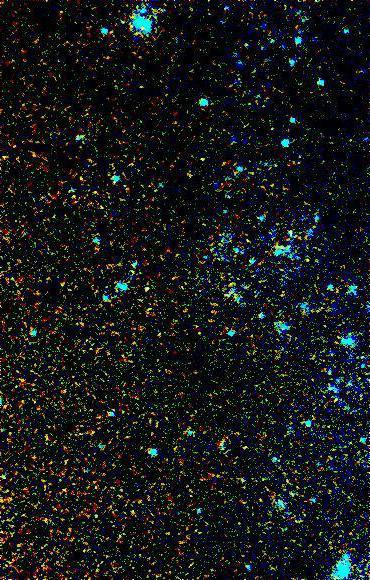star: (188, 141, 218, 171)
